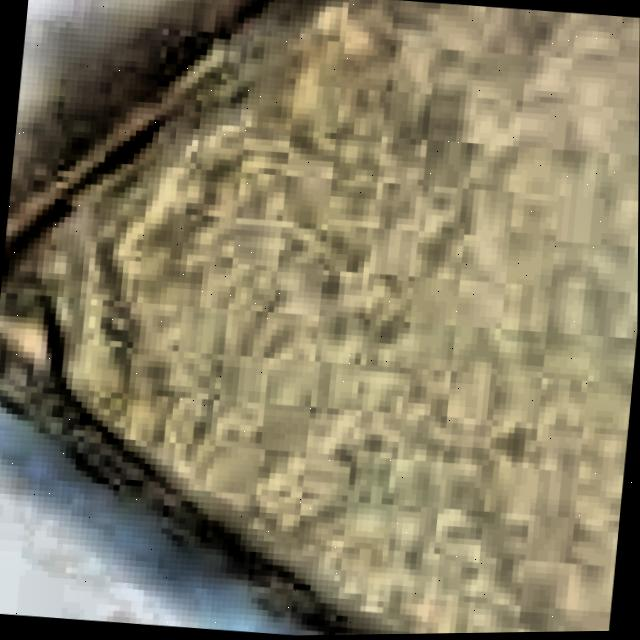paper: (0, 0, 640, 636)
